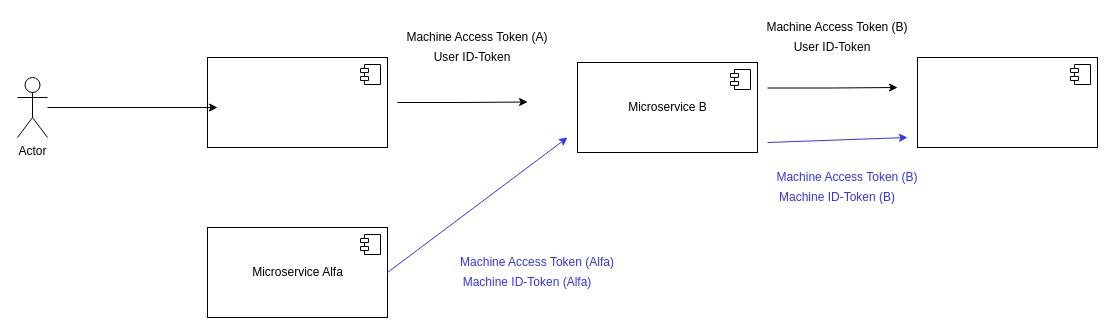
This 1115x335 diagram has some shape labels left out. The shapes that lost their labels are listed below. From the top down, each one's box as (x1, y1, x2, y2) in pixels, then its label:
(206, 56, 388, 148): Microservice A
(916, 56, 1098, 148): Microservice C
